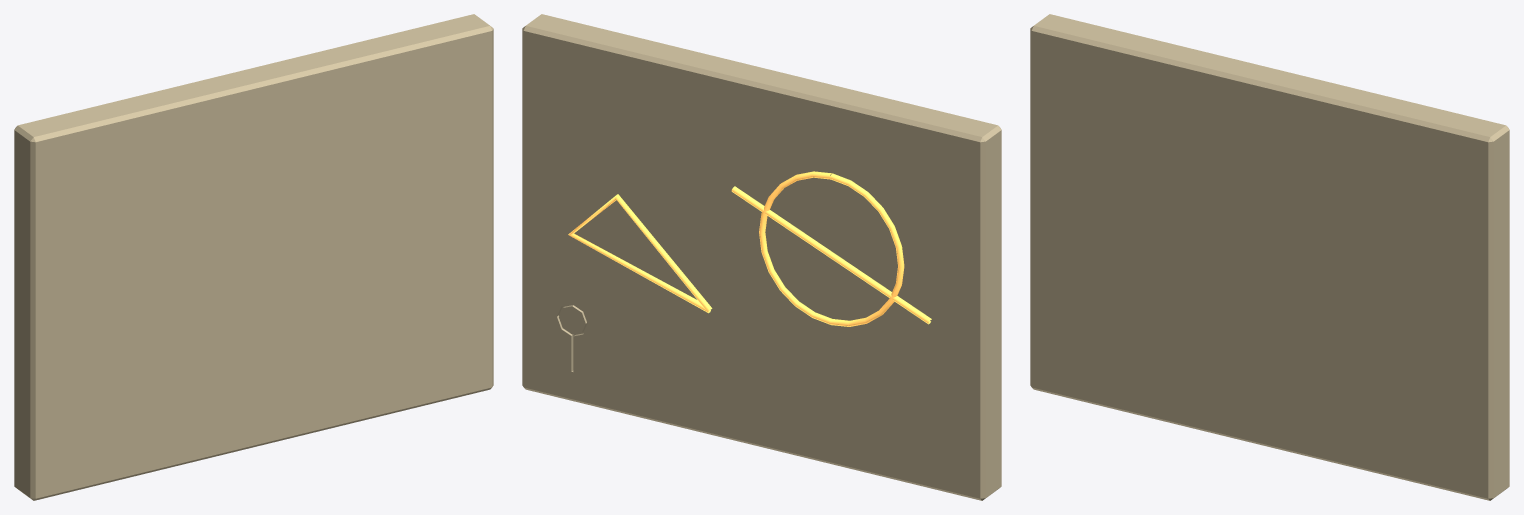
Rendered from mural_3.glb.
The picture shows the model from 3 angles, left to right: view 1: azimuth 30°, elevation 25°; view 2: azimuth 150°, elevation 25°; view 3: azimuth 330°, elevation 25°; orthographic projection.
Parts seen in each view (by area): view 1: mural_3; view 2: mural_3; view 3: mural_3.
Boxes of the visible parts, x1=… form: mural_3: x1=14, y1=14, x2=493, y2=500; mural_3: x1=522, y1=14, x2=1001, y2=500; mural_3: x1=1030, y1=14, x2=1509, y2=500.
Size of the model in its own units: 4 by 3 by 0.344.
